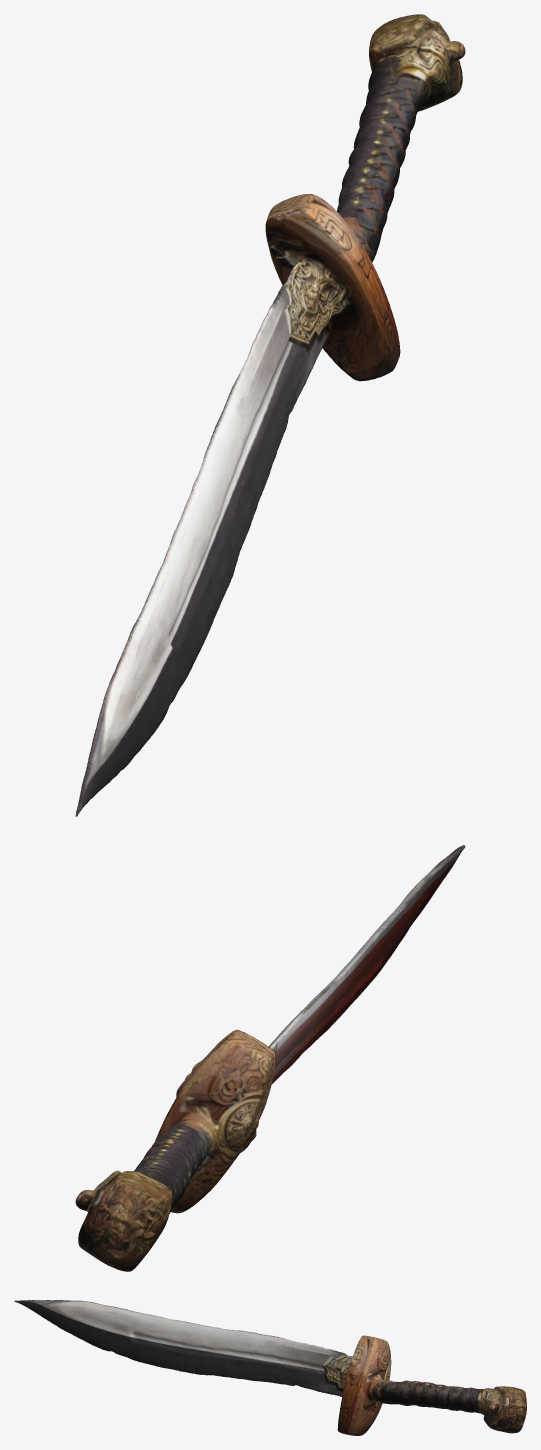
Rendered from Meshy_AI_Una_espada_de_madera__1007162656_texture.fbx.
The picture shows the model from 3 angles, top to bottom: view 1: azimuth 30°, elevation 25°; view 2: azimuth 210°, elevation 25°; view 3: azimuth 270°, elevation 25°; orthographic projection. The views are drawn at different scales.
Parts seen in each view (by area): view 1: Mesh_0; view 2: Mesh_0; view 3: Mesh_0.
Boxes of the visible parts, x1,y1,x2,y2 form: Mesh_0: [75, 14, 465, 816]; Mesh_0: [75, 845, 465, 1271]; Mesh_0: [14, 1300, 526, 1435].
Size of the model in its own units: 196 by 52.83 by 200.
Materials: 1 (1 with a texture image).
